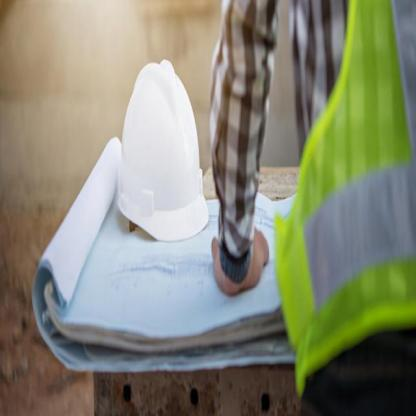vest-helm: (275, 3, 415, 377)
white-helm: (112, 55, 212, 261)
